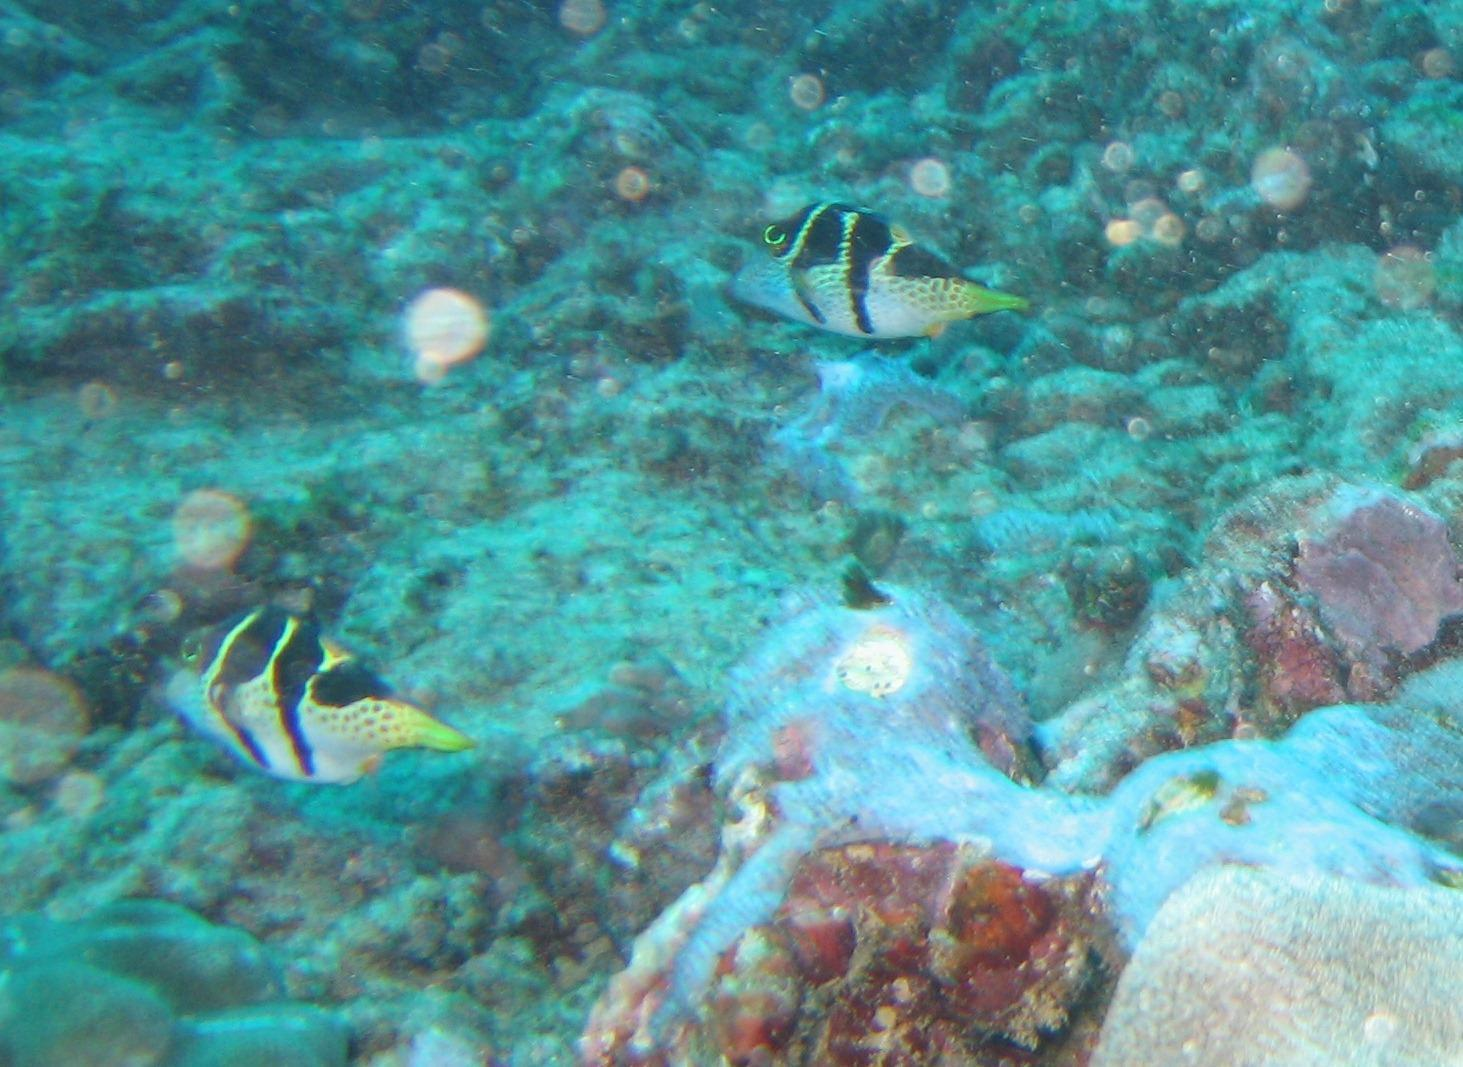Fish: (77, 547, 590, 836), (663, 142, 1105, 453)
